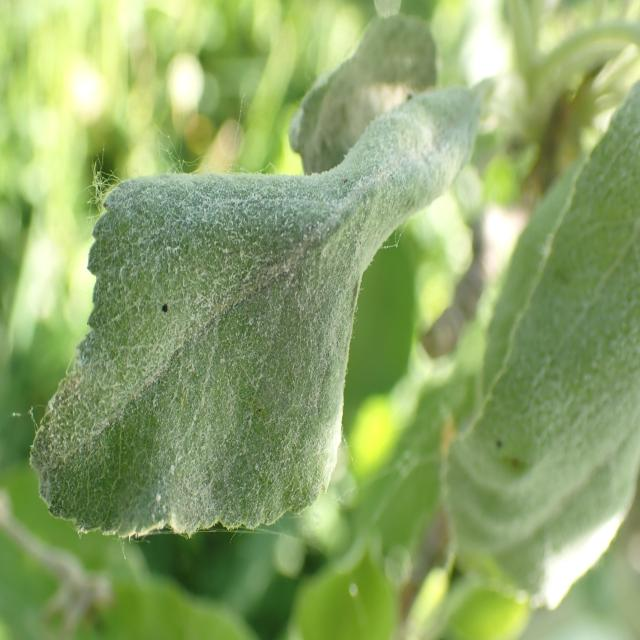Powdery_mildew: (36, 80, 506, 533), (430, 46, 640, 632)
